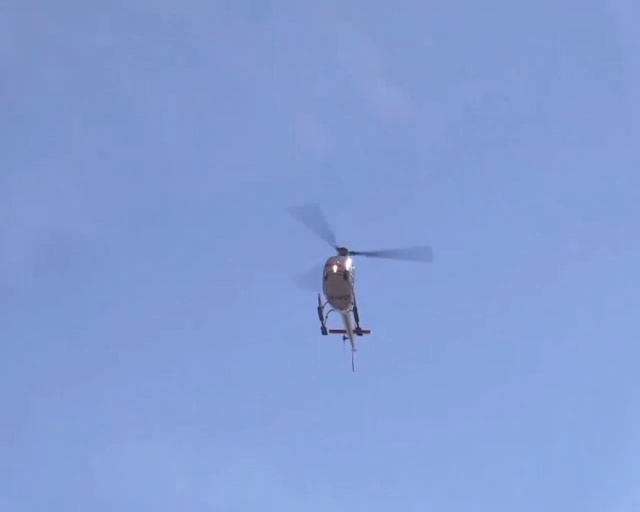HELICOPTER: (284, 198, 434, 368)
